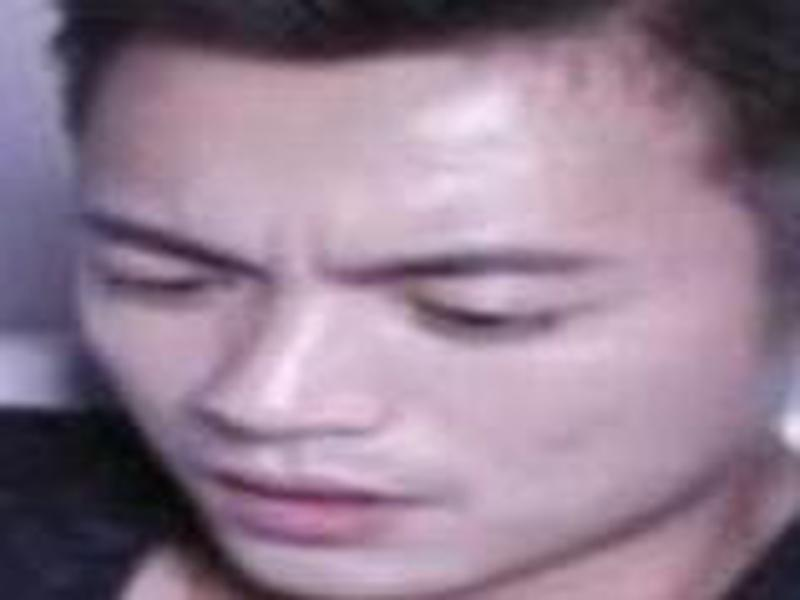without_mask: (61, 53, 740, 595)
